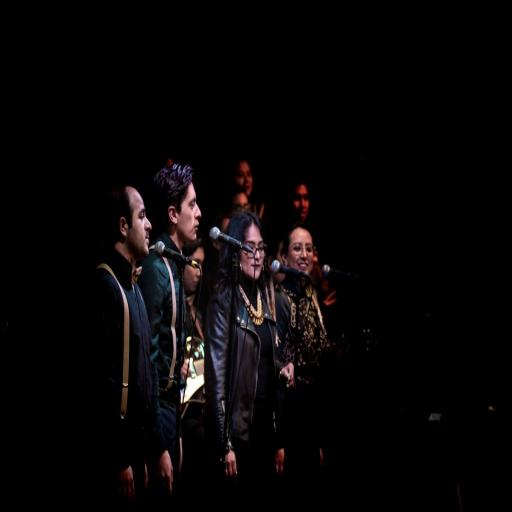face: (126, 188, 151, 261), (177, 183, 201, 248), (283, 227, 314, 274), (240, 224, 265, 280), (184, 247, 204, 295), (235, 160, 253, 196), (293, 184, 309, 223)
